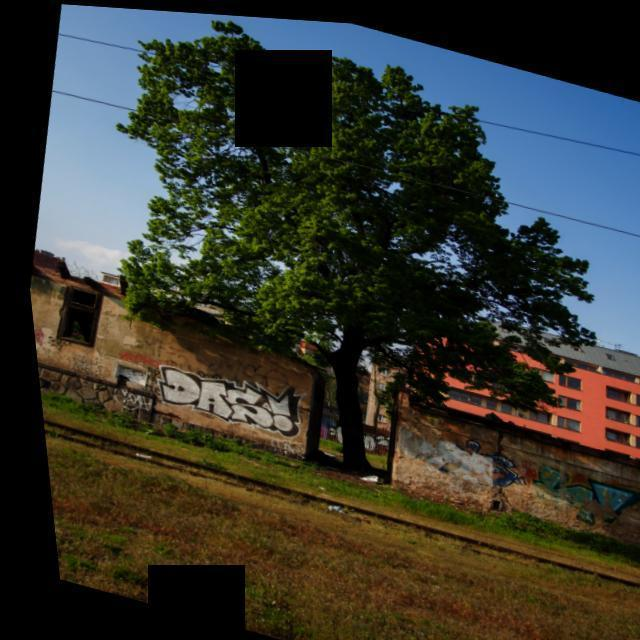tree: (56, 3, 640, 536)
